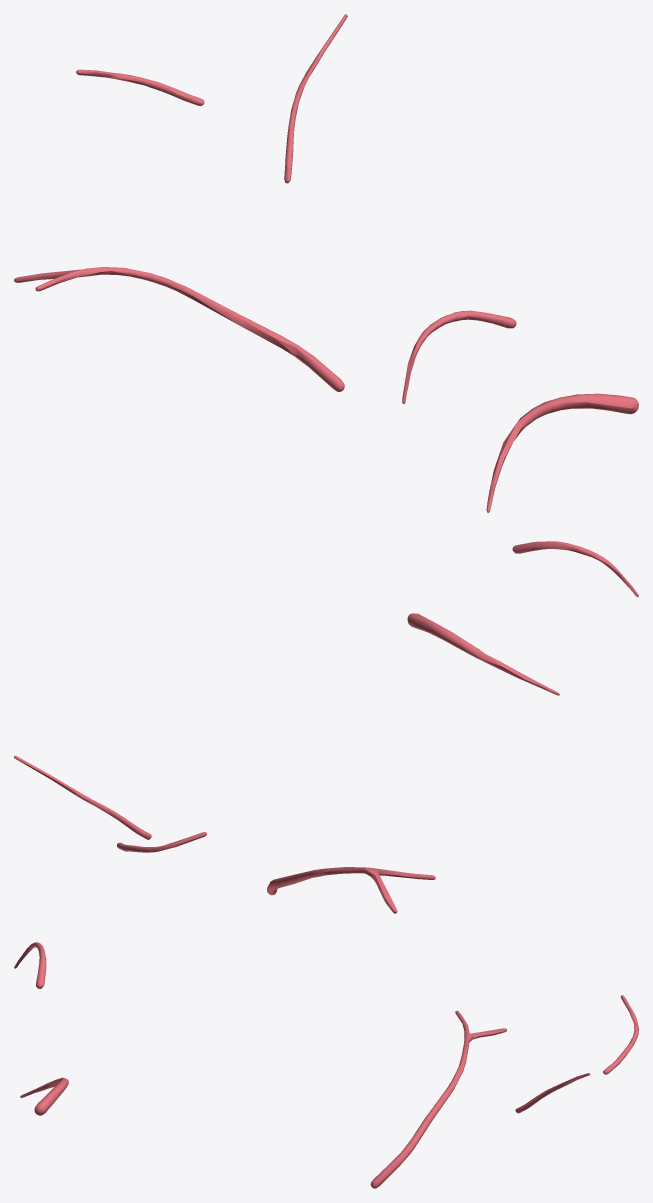
File: fma71708_fj2394.glb
3 renders of one model, top to bottom at view 1: azimuth 30°, elevation 25°; view 2: azimuth 150°, elevation 25°; view 3: azimuth 270°, elevation 25°, orthographic. The views are drawn at different scales.
Visible parts, largest first — view 1: FMA71708_FJ2394; view 2: FMA71708_FJ2394; view 3: FMA71708_FJ2394.
Part boxes in pixels (<box>): FMA71708_FJ2394: <box>14,14,638,512</box>; FMA71708_FJ2394: <box>14,541,638,913</box>; FMA71708_FJ2394: <box>14,942,638,1188</box>.
Bounding box in the file's own units: 0.0466 × 0.0302 × 0.0858.
